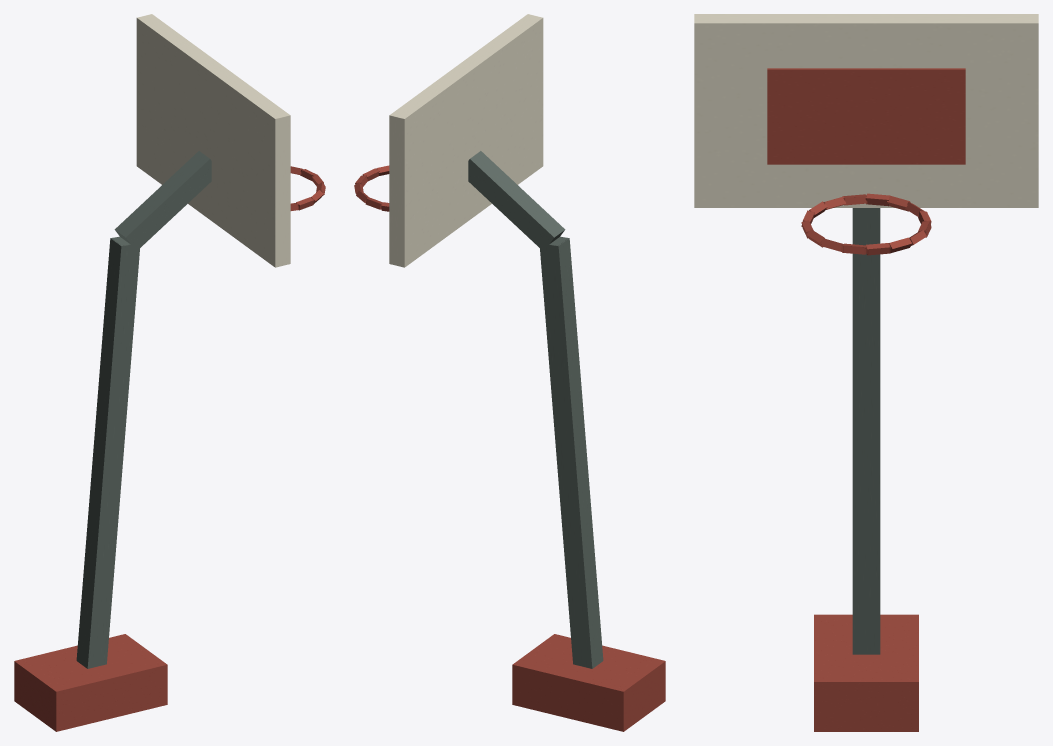
The model's file is SM_QD_School_BasketballHoop.fbx.
3 views of the same model, side by side, from view 1: azimuth 30°, elevation 25°; view 2: azimuth 150°, elevation 25°; view 3: azimuth 270°, elevation 25° (orthographic). The views are drawn at different scales.
Parts seen in each view (by area): view 1: SM_QD_School_BasketballHoop; view 2: SM_QD_School_BasketballHoop; view 3: SM_QD_School_BasketballHoop.
Boxes of the visible parts, x1,y1,x2,y2 form: SM_QD_School_BasketballHoop: [14, 14, 325, 731]; SM_QD_School_BasketballHoop: [354, 14, 665, 731]; SM_QD_School_BasketballHoop: [694, 14, 1038, 731].
Bounding box in the file's own units: 1.48 × 1.25 × 3.02.
1 material, 1 textured.
